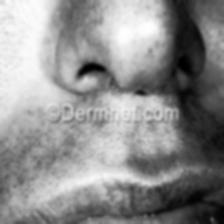Non-Cancerous Skin Condition: (28, 155, 224, 224)
